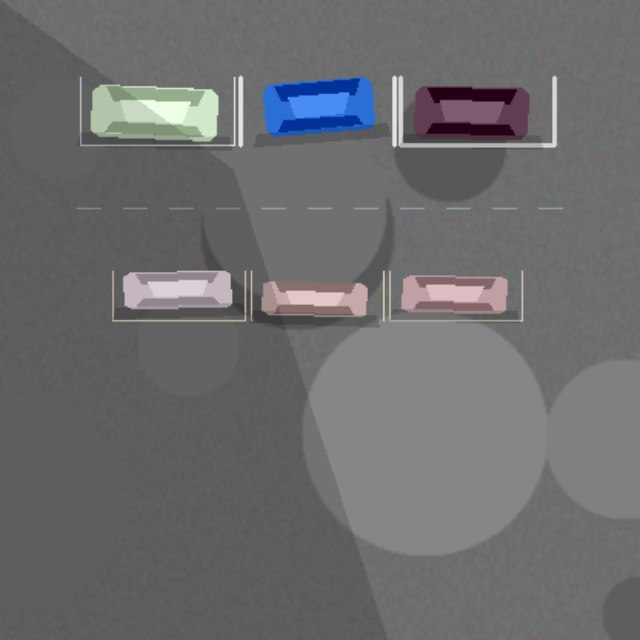space-occupied: (80, 77, 234, 145), (240, 77, 394, 145), (400, 77, 554, 145), (112, 271, 245, 320), (389, 271, 522, 320), (251, 271, 383, 320)
